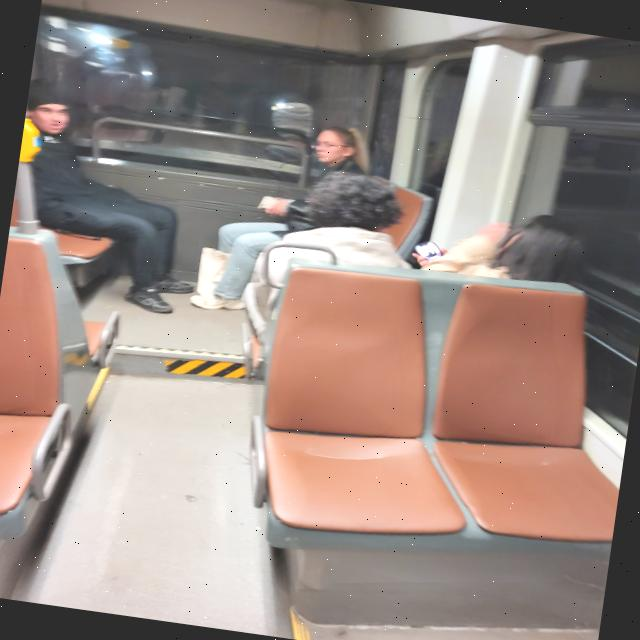empty-seat-frontal: (232, 246, 502, 564), (420, 265, 640, 555)
